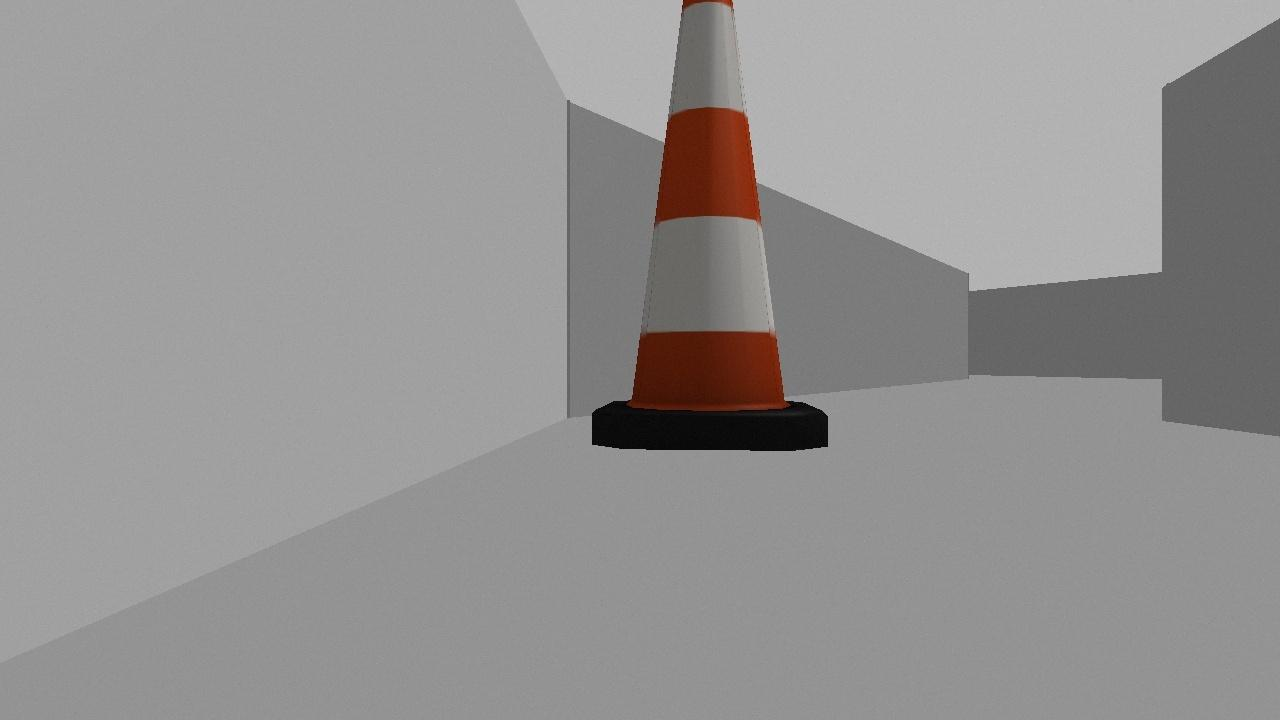cone_barrel: (578, 0, 842, 466)
